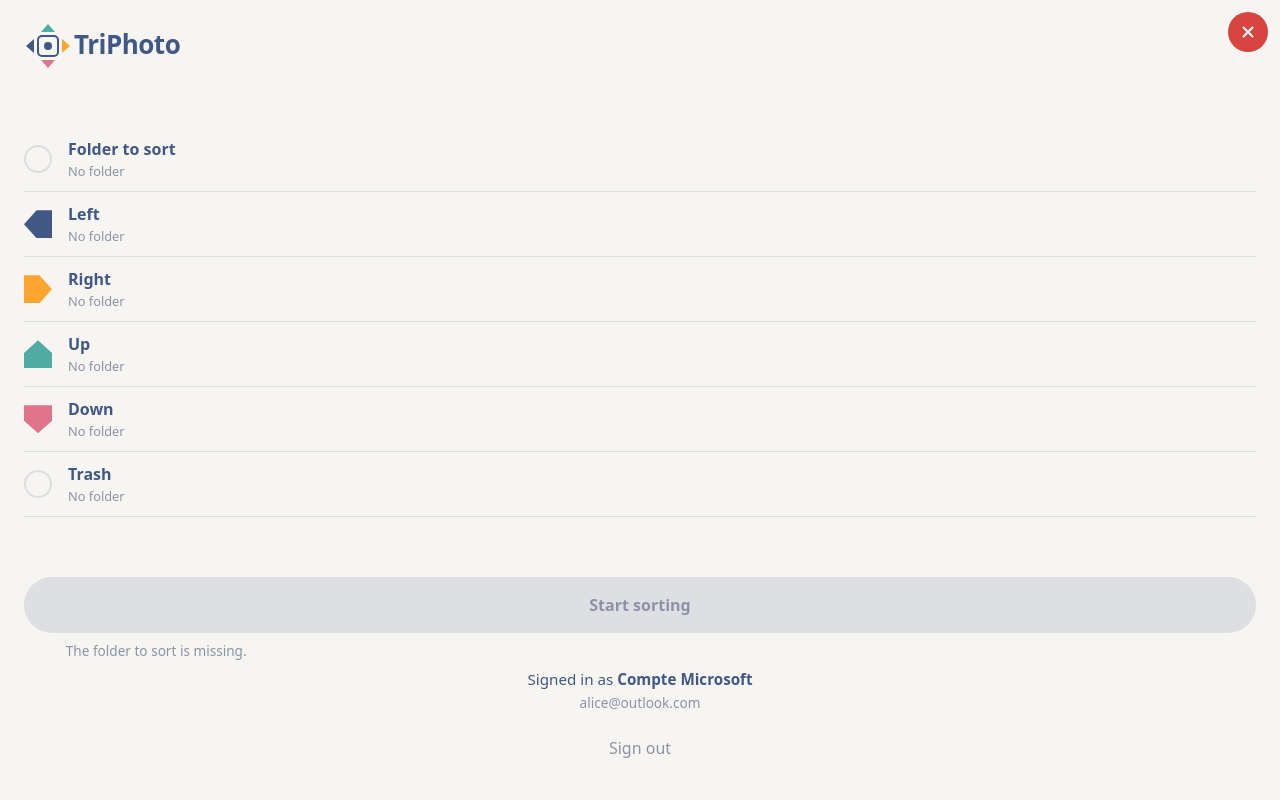
Test case: écran de configuration › laisse « Commencer le tri » grisé tant que la poubelle manque
Click the button "Folder to sort No folder" at (122, 149), box [24,127,1256,191]
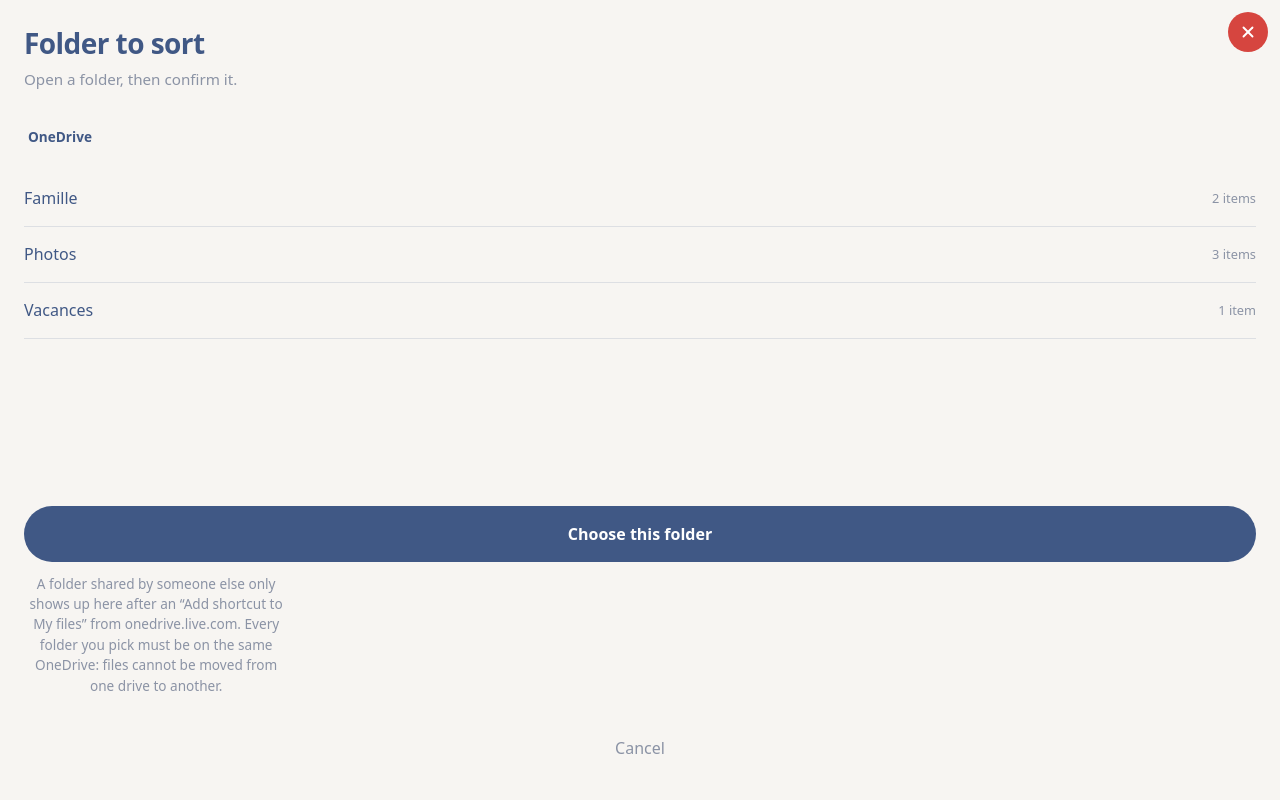
Click the button "Photos 3 items" at (50, 254), box [24,227,1256,283]
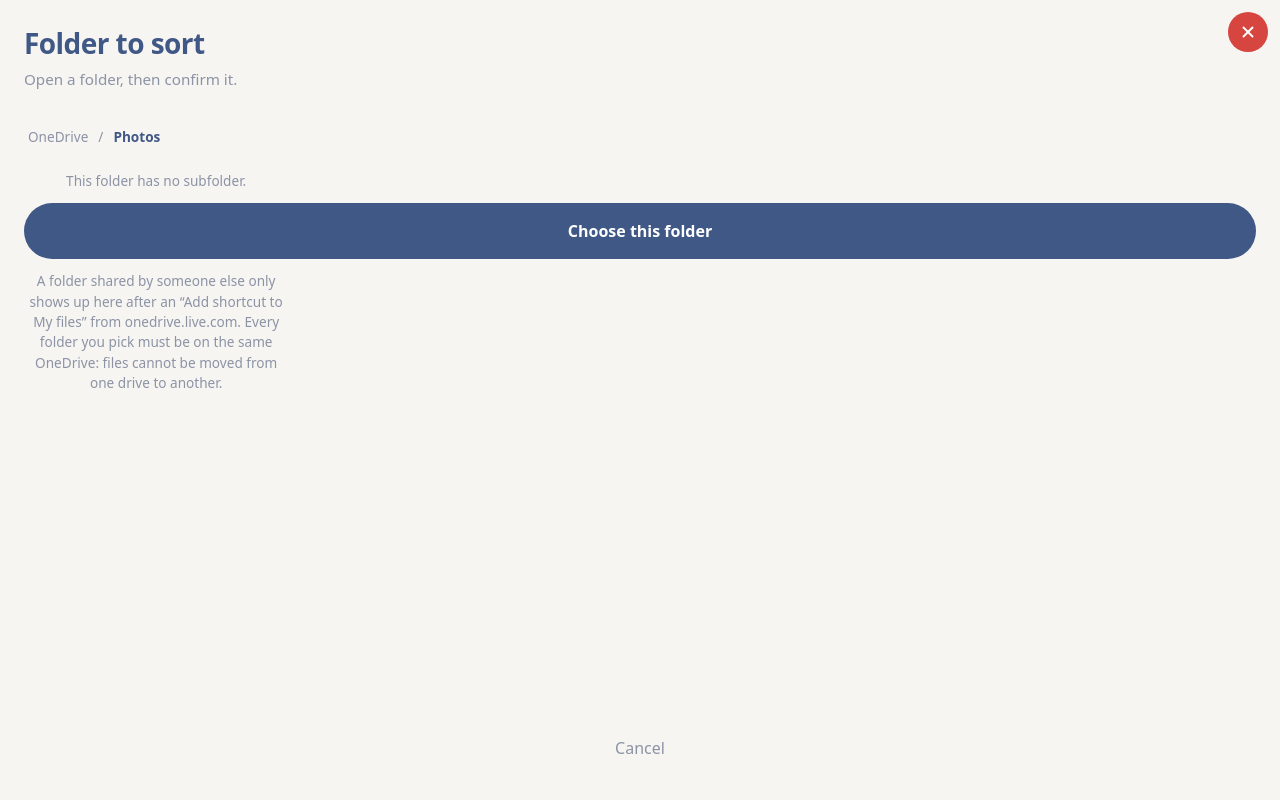
Click the button "Choose this folder" at (640, 231), box [24,203,1256,259]
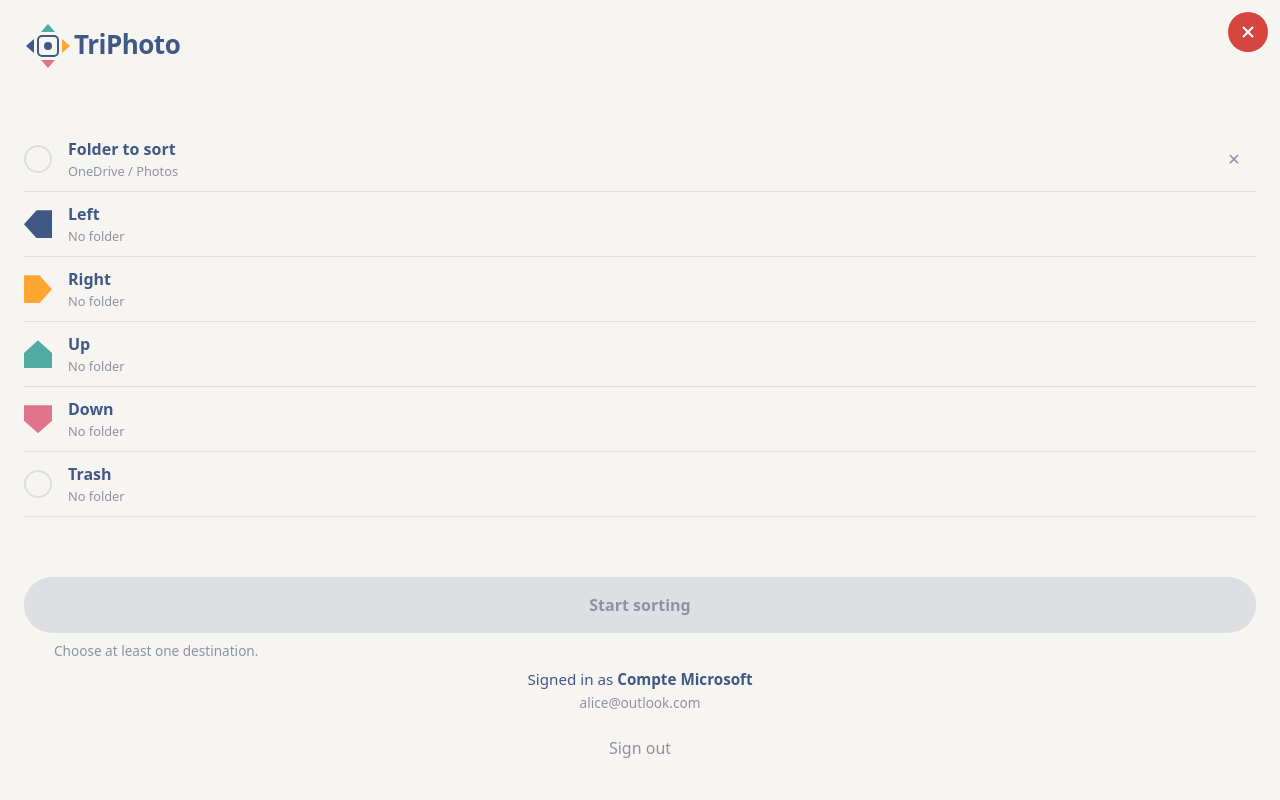
Click the button "Left No folder" at (84, 214), box [24,192,1256,256]
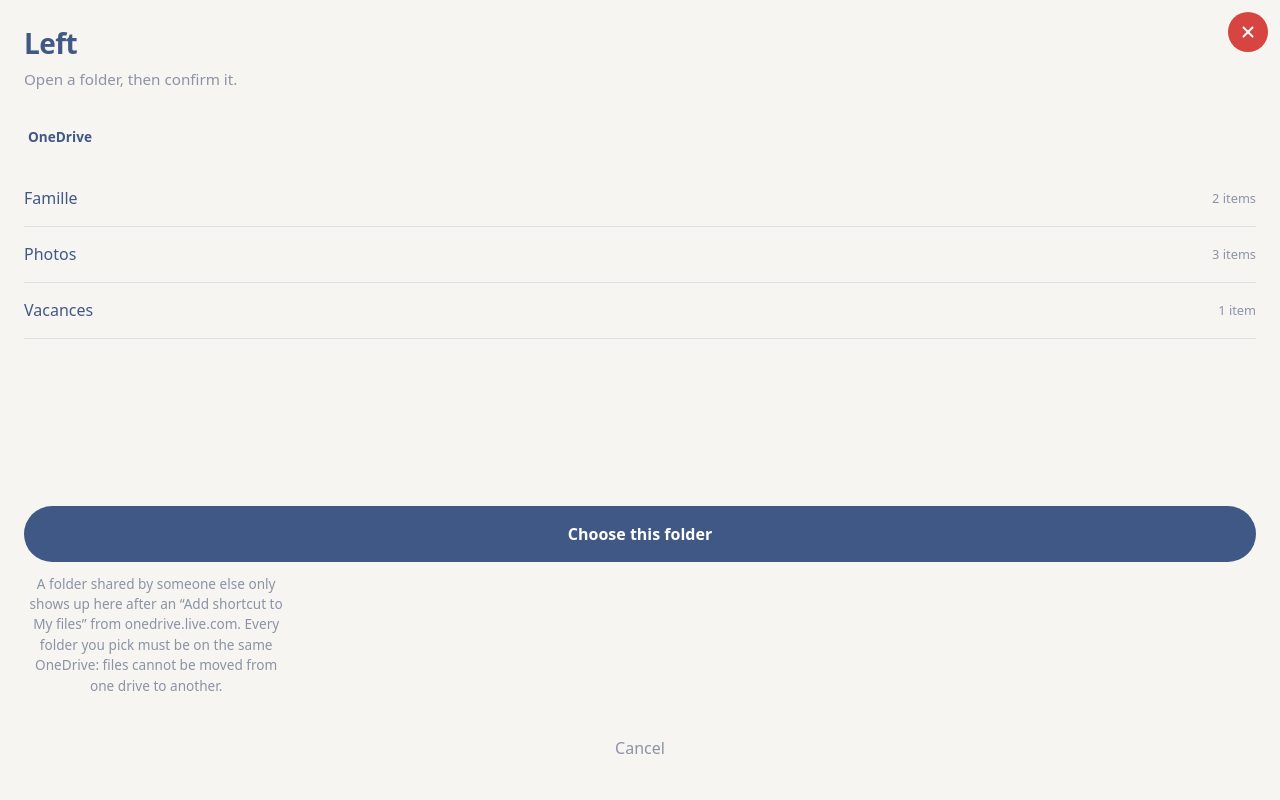
Click the button "Vacances 1 item" at (59, 310), box [24,283,1256,339]
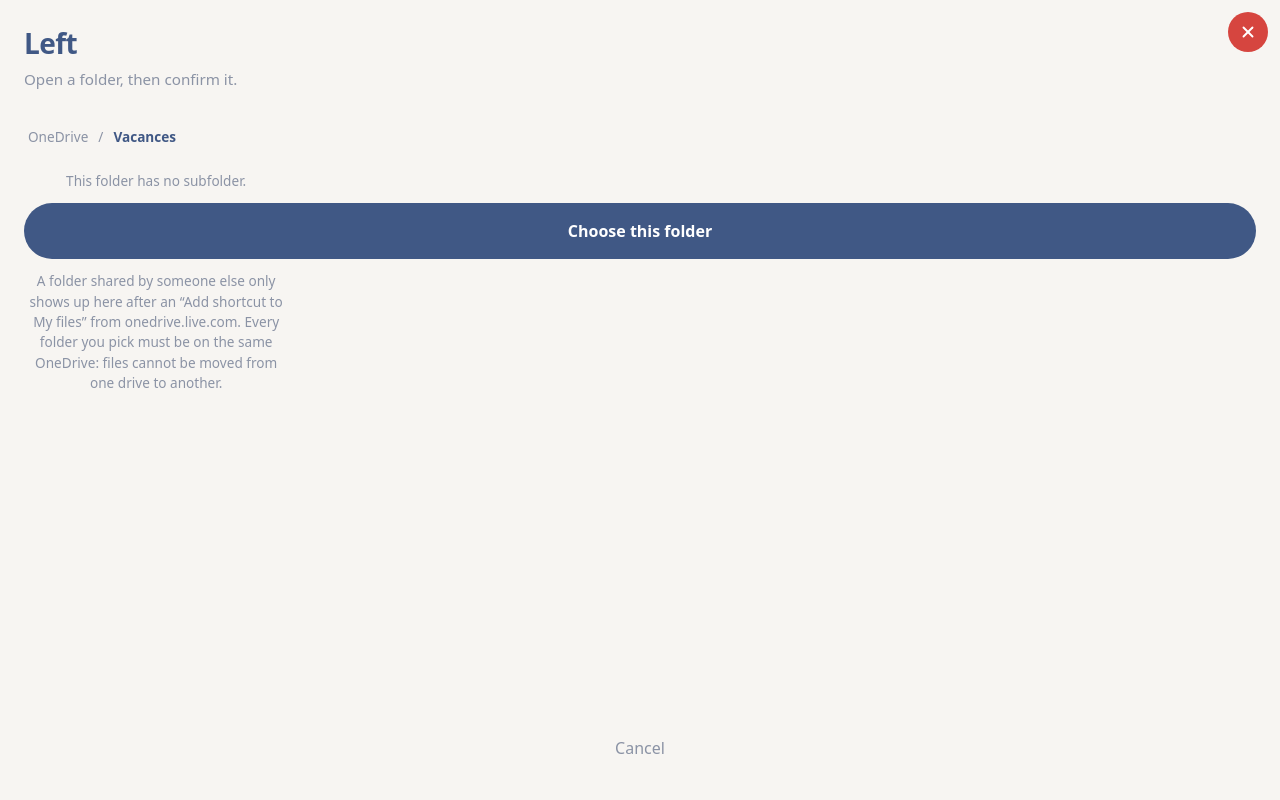
Click the button "Choose this folder" at (640, 231), box [24,203,1256,259]
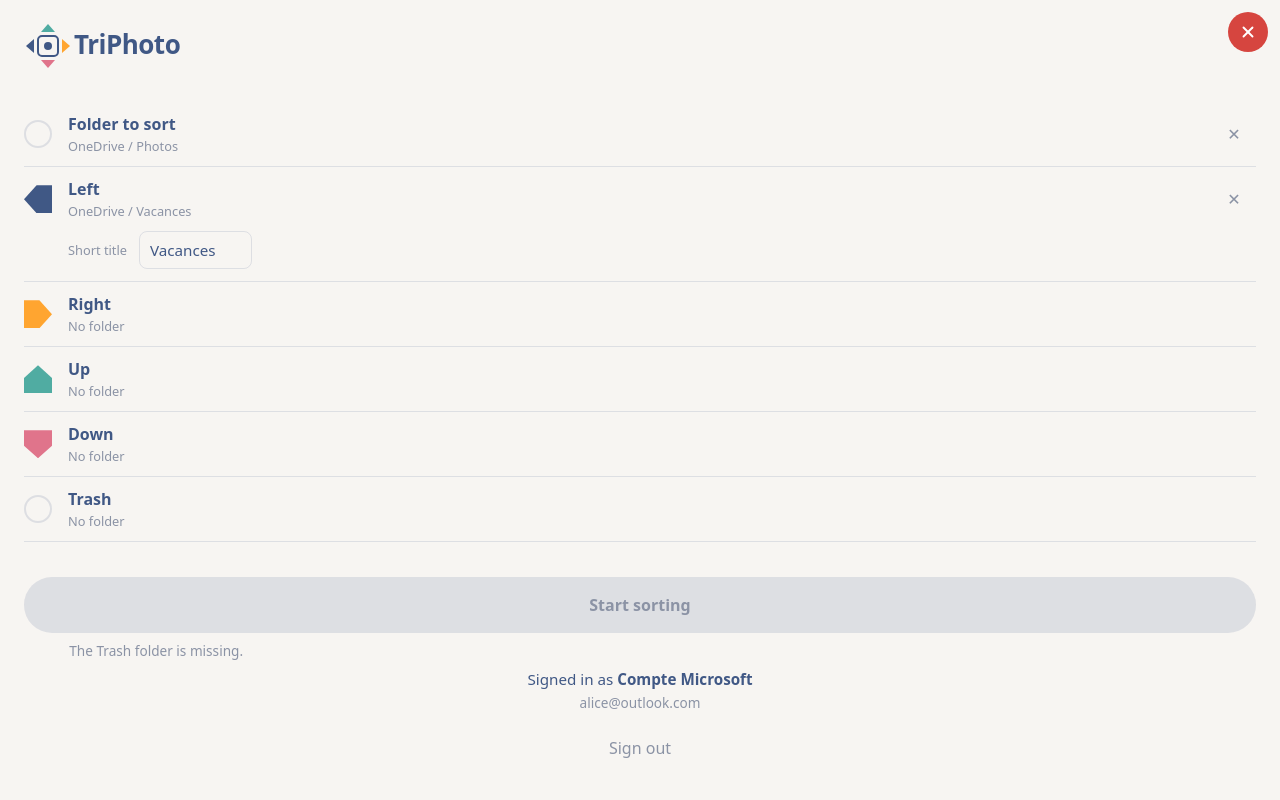
Result: the button "Start sorting" is disabled at [24,577,1256,633]
Result: the text "The Trash folder is missing." is shown at [69,641,243,660]
